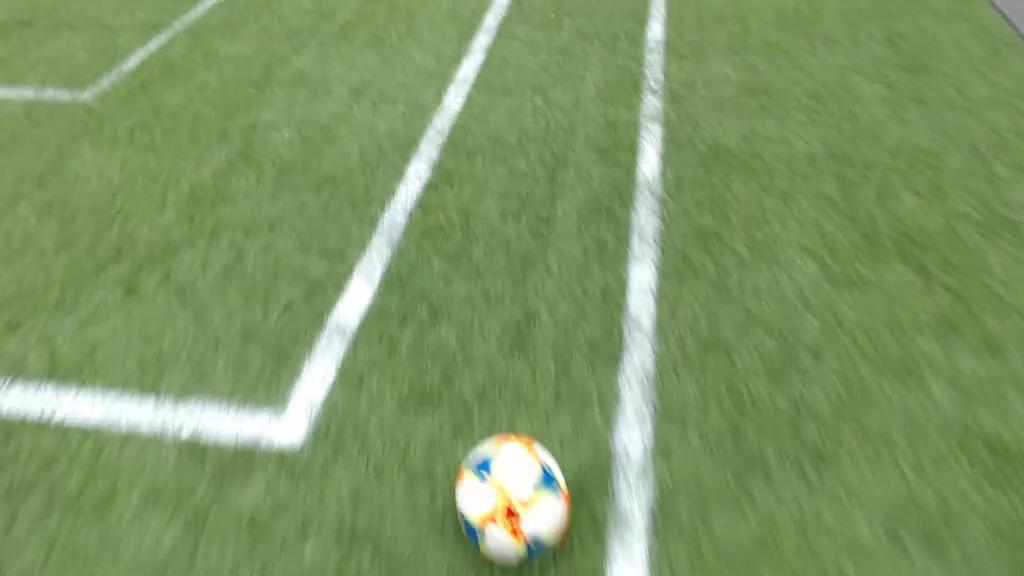ball: (459, 433, 570, 566)
